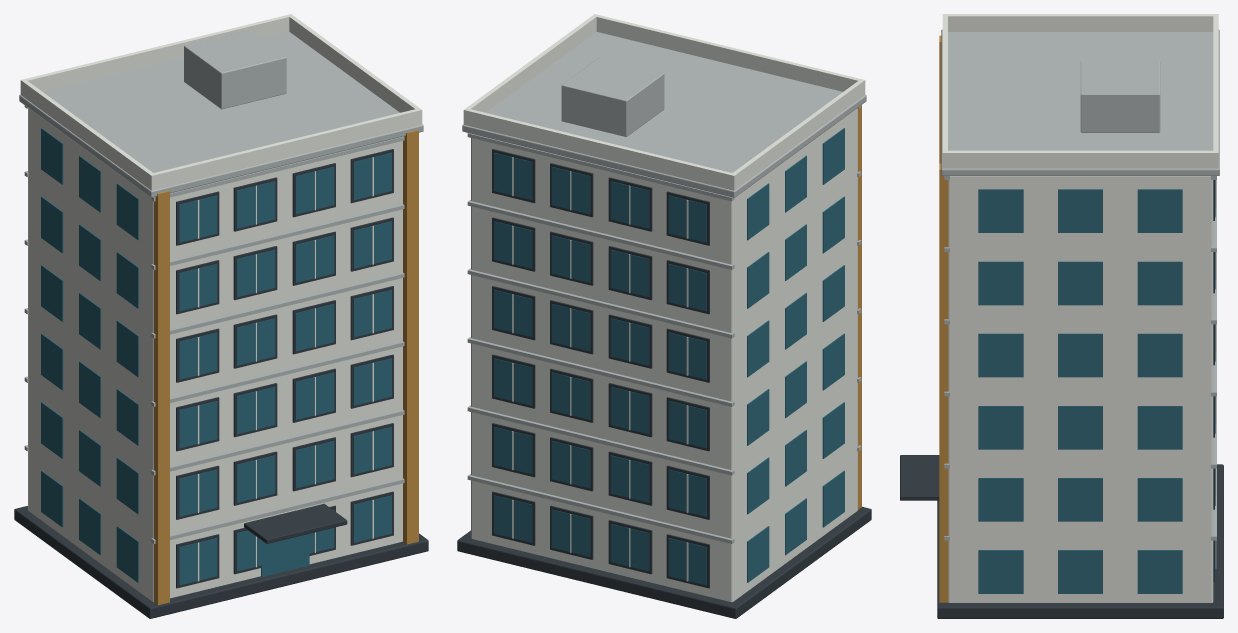
File: residential-building.glb
3 views of the same model, side by side, from view 1: azimuth 30°, elevation 25°; view 2: azimuth 150°, elevation 25°; view 3: azimuth 270°, elevation 25° (orthographic). The views are drawn at different scales.
Parts seen in each view (by area): view 1: ResidentialBody, RoofCap, Plinth, FacadeFin.001, FacadeFin, RoofServiceRoom, Parapet, Parapet.001, Parapet.002, Parapet.003, EntranceCanopy, WindowGlass.034 (+53 smaller); view 2: ResidentialBody, RoofCap, Plinth, RoofServiceRoom, Parapet.001, Parapet, Parapet.002, Parapet.003, FloorBand.003, FloorBand.005, FloorBand.007, FloorBand.009 (+51 smaller); view 3: ResidentialBody, RoofCap, Plinth, RoofServiceRoom, Parapet.003, Parapet.002, FacadeFin.001, EndWindow.021, EndWindow.027, EndWindow.023, EndWindow.029, EndWindow.022 (+16 smaller).
Boxes of the visible parts, x1=… form: ResidentialBody: x1=28, y1=108, x2=402, y2=601; RoofCap: x1=19, y1=31, x2=423, y2=197; Plinth: x1=14, y1=506, x2=428, y2=618; FacadeFin.001: x1=403, y1=130, x2=418, y2=544; FacadeFin: x1=154, y1=190, x2=169, y2=605; RoofServiceRoom: x1=184, y1=30, x2=286, y2=109; Parapet: x1=149, y1=108, x2=422, y2=190; Parapet.001: x1=20, y1=14, x2=293, y2=95; Parapet.002: x1=22, y1=80, x2=153, y2=189; Parapet.003: x1=289, y1=15, x2=419, y2=112; EntranceCanopy: x1=244, y1=503, x2=347, y2=543; WindowGlass.034: x1=295, y1=235, x2=334, y2=282; ResidentialBody: x1=471, y1=108, x2=857, y2=602; RoofCap: x1=462, y1=31, x2=866, y2=197; Plinth: x1=457, y1=506, x2=871, y2=618; RoofServiceRoom: x1=561, y1=57, x2=664, y2=136; Parapet.001: x1=463, y1=108, x2=736, y2=190; Parapet: x1=592, y1=14, x2=865, y2=95; Parapet.002: x1=733, y1=80, x2=863, y2=189; Parapet.003: x1=466, y1=15, x2=597, y2=112; FloorBand.003: x1=467, y1=405, x2=734, y2=475; FloorBand.005: x1=467, y1=337, x2=734, y2=406; FloorBand.007: x1=467, y1=268, x2=734, y2=338; FloorBand.009: x1=467, y1=200, x2=734, y2=269; ResidentialBody: x1=948, y1=176, x2=1213, y2=602; RoofCap: x1=941, y1=29, x2=1219, y2=175; Plinth: x1=937, y1=464, x2=1223, y2=618; RoofServiceRoom: x1=1080, y1=61, x2=1160, y2=132; Parapet.003: x1=945, y1=150, x2=1215, y2=168; Parapet.002: x1=947, y1=14, x2=1213, y2=31; FacadeFin.001: x1=939, y1=163, x2=948, y2=602; EndWindow.021: x1=978, y1=333, x2=1023, y2=377; EndWindow.027: x1=978, y1=261, x2=1023, y2=305; EndWindow.023: x1=1137, y1=333, x2=1182, y2=377; EndWindow.029: x1=1137, y1=261, x2=1182, y2=305; EndWindow.022: x1=1058, y1=333, x2=1102, y2=377.
Size of the model in its own units: 12.8 by 20.25 by 12.2.
